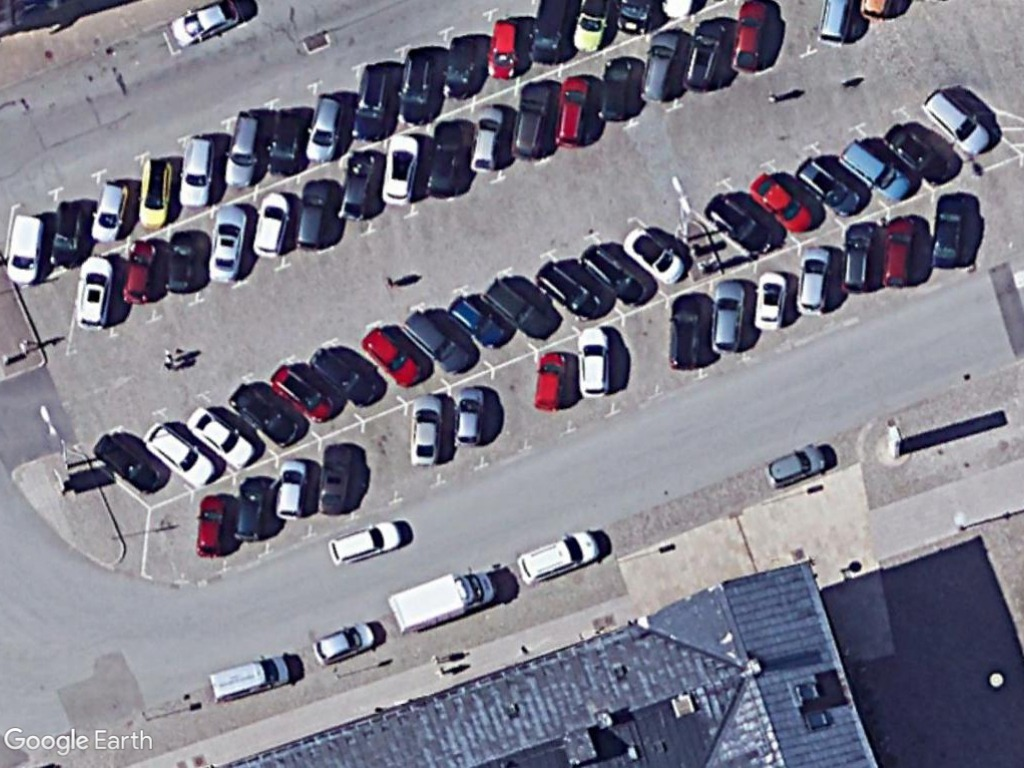car: (141, 416, 221, 491), (398, 306, 476, 380), (229, 378, 307, 450), (512, 526, 602, 588), (181, 400, 259, 470), (919, 87, 996, 157), (701, 191, 780, 258), (836, 139, 917, 204), (743, 168, 820, 235), (877, 120, 950, 189), (533, 258, 608, 325), (579, 244, 651, 312), (269, 358, 340, 425), (794, 153, 866, 219), (310, 347, 384, 411), (93, 433, 167, 496), (488, 276, 557, 343), (507, 77, 560, 163), (622, 220, 688, 286), (358, 325, 425, 390), (681, 13, 733, 96), (325, 517, 403, 572), (347, 57, 395, 144), (220, 106, 269, 190), (638, 24, 688, 106), (423, 115, 468, 204), (549, 70, 598, 151), (447, 289, 511, 351), (394, 44, 440, 129), (728, 0, 778, 78), (168, 0, 246, 49), (665, 288, 710, 371), (291, 172, 337, 253), (207, 200, 251, 284), (925, 191, 969, 274), (707, 274, 751, 357), (301, 89, 349, 165), (466, 99, 511, 179), (177, 129, 220, 212), (380, 129, 423, 211), (876, 212, 922, 288), (310, 619, 378, 670), (262, 102, 306, 180), (73, 251, 114, 332), (135, 151, 176, 232), (837, 219, 879, 298), (47, 195, 89, 274), (762, 441, 827, 491), (594, 50, 638, 123), (250, 187, 293, 261), (575, 321, 614, 402), (794, 241, 834, 318), (232, 471, 276, 541), (440, 30, 482, 103), (484, 12, 527, 83), (408, 391, 448, 467), (90, 177, 133, 246), (121, 235, 161, 308), (449, 381, 490, 449), (162, 223, 201, 294), (272, 456, 311, 526), (194, 487, 233, 556), (748, 268, 789, 333), (531, 347, 569, 413)
truck: (383, 565, 496, 637)
van: (205, 649, 294, 704), (3, 206, 49, 286)
